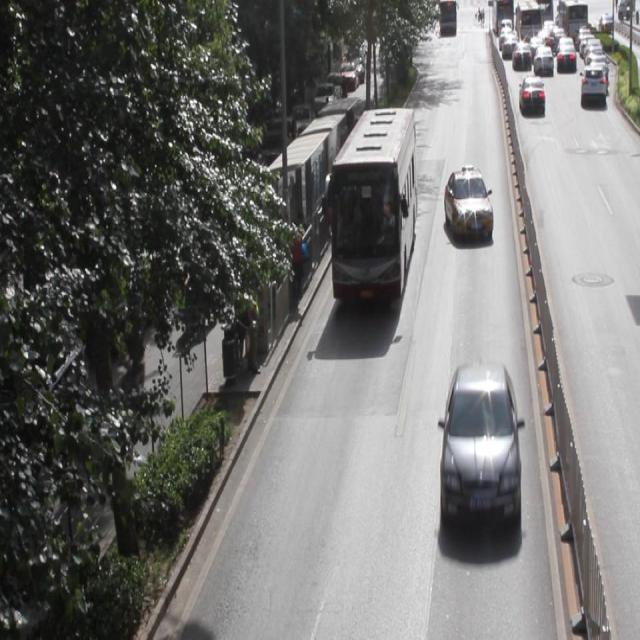car: (440, 360, 517, 532), (444, 168, 492, 241)
van: (328, 105, 412, 306)
